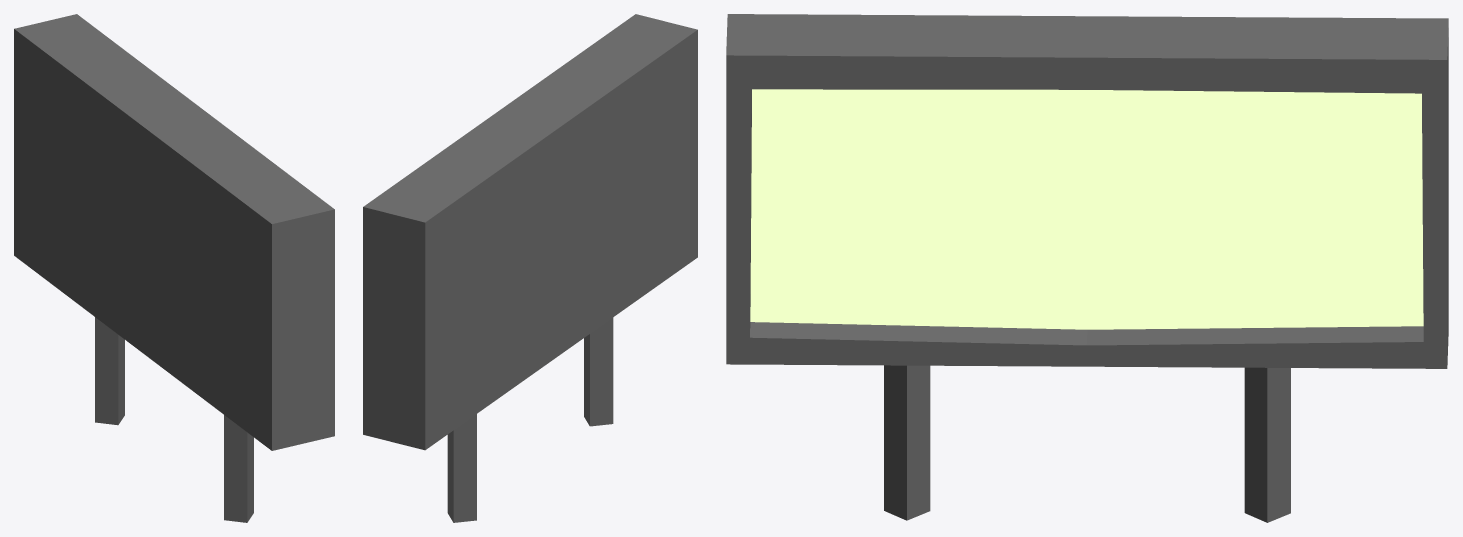
3 renders of one model, left to right at view 1: azimuth 30°, elevation 25°; view 2: azimuth 150°, elevation 25°; view 3: azimuth 270°, elevation 25°, orthographic. The views are drawn at different scales.
Visible parts, largest first — view 1: ConnectMe; view 2: ConnectMe; view 3: ConnectMe.
Part boxes in pixels (box(x1,y1,x2,y2)): ConnectMe: box(14, 14, 334, 522); ConnectMe: box(363, 14, 697, 522); ConnectMe: box(726, 14, 1448, 522).
Bounding box in the file's own units: 0.2106 × 1.02 × 1.4.
